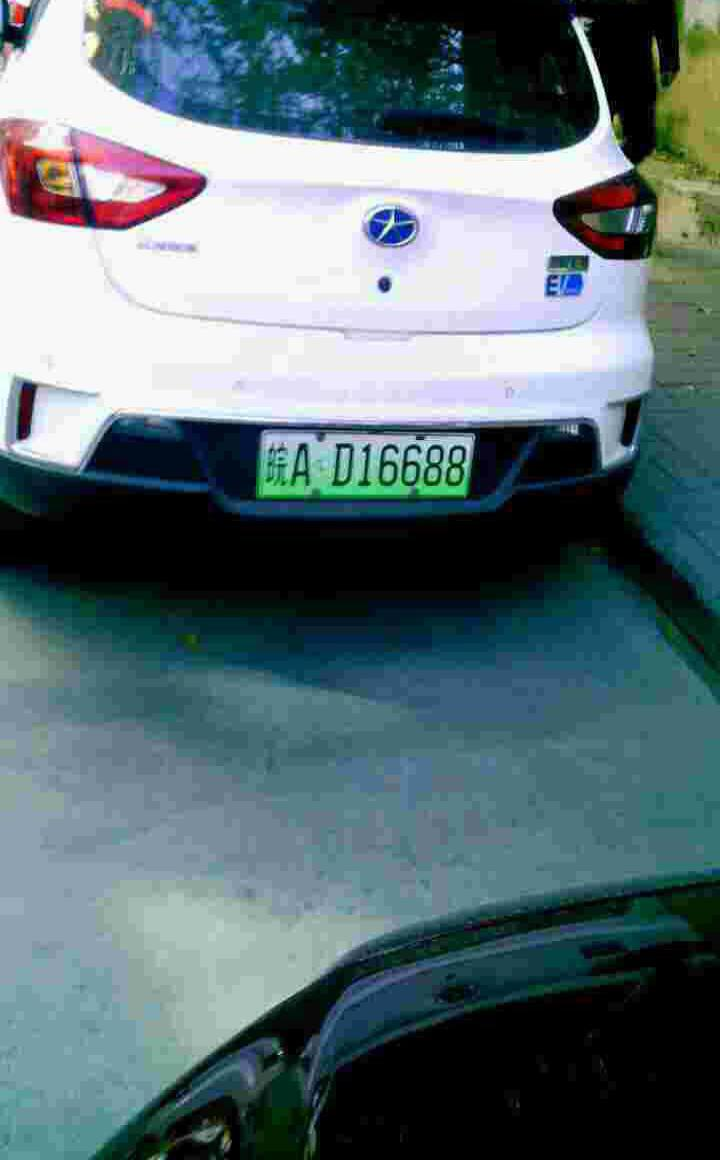car_id: (256, 427, 474, 496)
